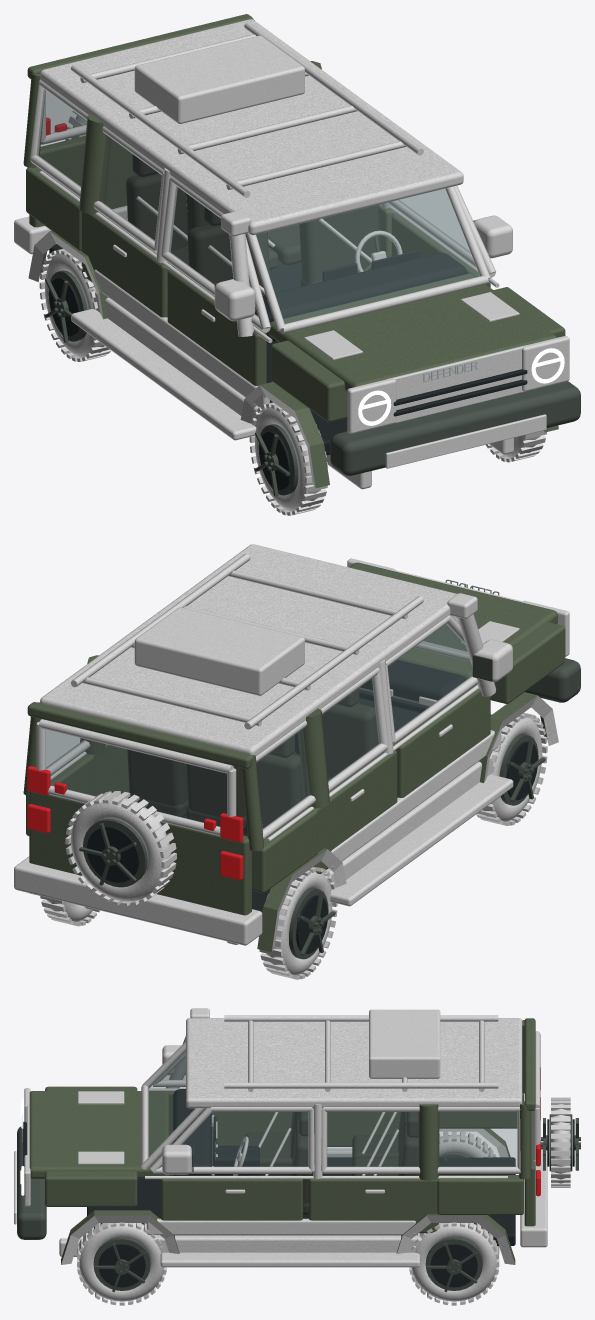
File: defender.glb
3 views of the same model, one above another, from view 1: azimuth 30°, elevation 25°; view 2: azimuth 150°, elevation 25°; view 3: azimuth 270°, elevation 25° (orthographic). The views are drawn at different scales.
Parts seen in each view (by area): view 1: rubber_batch (×5), military_paint_batch, armoured_glass_batch, fabric_batch, cabin_trim_batch (×4), brightwork_batch (×3), headlamp_batch; view 2: rubber_batch (×5), military_paint_batch, armoured_glass_batch, fabric_batch, cabin_trim_batch (×5), brightwork_batch (×4), tail_lamp_batch; view 3: rubber_batch (×6), military_paint_batch, armoured_glass_batch, cabin_trim_batch (×4), brightwork_batch (×4), fabric_batch.
Part boxes in pixels (x1=…): rubber_batch (×5): x1=14, y1=19, x2=569, y2=515; military_paint_batch: x1=23, y1=14, x2=565, y2=488; armoured_glass_batch: x1=37, y1=89, x2=479, y2=323; fabric_batch: x1=126, y1=154, x2=380, y2=295; cabin_trim_batch (×4): x1=49, y1=212, x2=527, y2=489; brightwork_batch (×3): x1=45, y1=220, x2=580, y2=496; headlamp_batch: x1=358, y1=348, x2=564, y2=425; rubber_batch (×5): x1=14, y1=544, x2=569, y2=979; military_paint_batch: x1=23, y1=562, x2=565, y2=952; armoured_glass_batch: x1=46, y1=624, x2=472, y2=829; fabric_batch: x1=127, y1=688, x2=378, y2=834; cabin_trim_batch (×5): x1=87, y1=660, x2=537, y2=953; brightwork_batch (×4): x1=79, y1=655, x2=580, y2=959; tail_lamp_batch: x1=27, y1=766, x2=243, y2=880; rubber_batch (×6): x1=14, y1=1008, x2=570, y2=1305; military_paint_batch: x1=29, y1=1018, x2=535, y2=1264; armoured_glass_batch: x1=148, y1=1049, x2=516, y2=1166; cabin_trim_batch (×4): x1=23, y1=1089, x2=515, y2=1287; brightwork_batch (×4): x1=17, y1=1114, x2=580, y2=1292; fabric_batch: x1=245, y1=1112, x2=418, y2=1214.
Size of the model in its own units: 2.36 by 2.27 by 5.15.
Materials: 10 (3 with a texture image).
